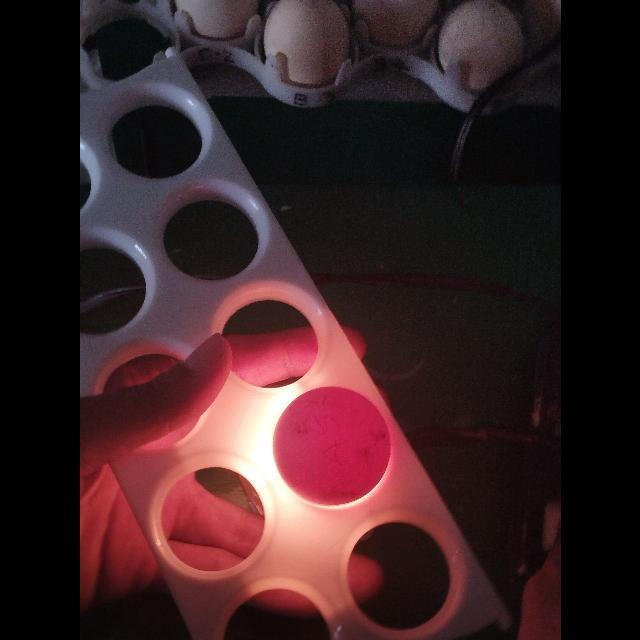Fertile: (276, 385, 394, 505)
